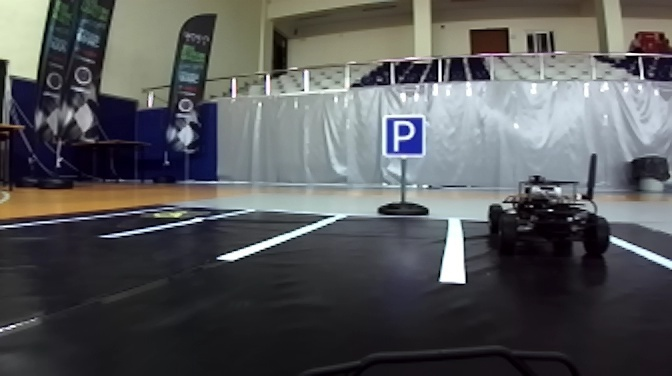park: (382, 116, 428, 157)
